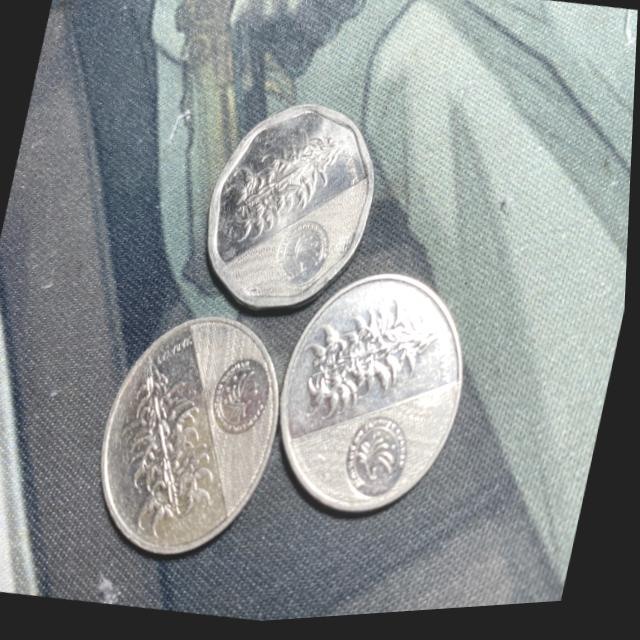5_New_Back: (105, 355, 239, 549), (295, 288, 455, 442), (219, 113, 350, 261)
